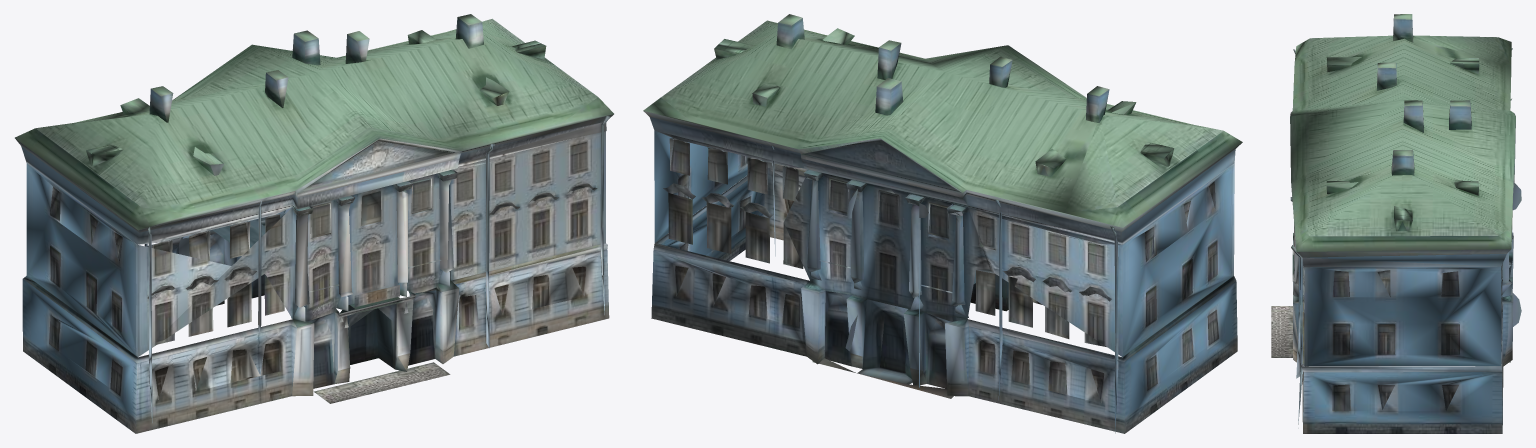
The model's file is spb_r10.glb.
3 renders of one model, left to right at view 1: azimuth 30°, elevation 25°; view 2: azimuth 150°, elevation 25°; view 3: azimuth 270°, elevation 25°, orthographic. The views are drawn at different scales.
Parts seen in each view (by area): view 1: tripo_node_e1560aa6; view 2: tripo_node_e1560aa6; view 3: tripo_node_e1560aa6.
Part boxes in pixels (x1,y1,x2,y2): tripo_node_e1560aa6: (15,14,613,433); tripo_node_e1560aa6: (643,14,1242,433); tripo_node_e1560aa6: (1271,14,1521,433).
Size of the model in its own units: 0.9992 by 0.5623 by 0.5103.
Materials: 1 (1 with a texture image).
